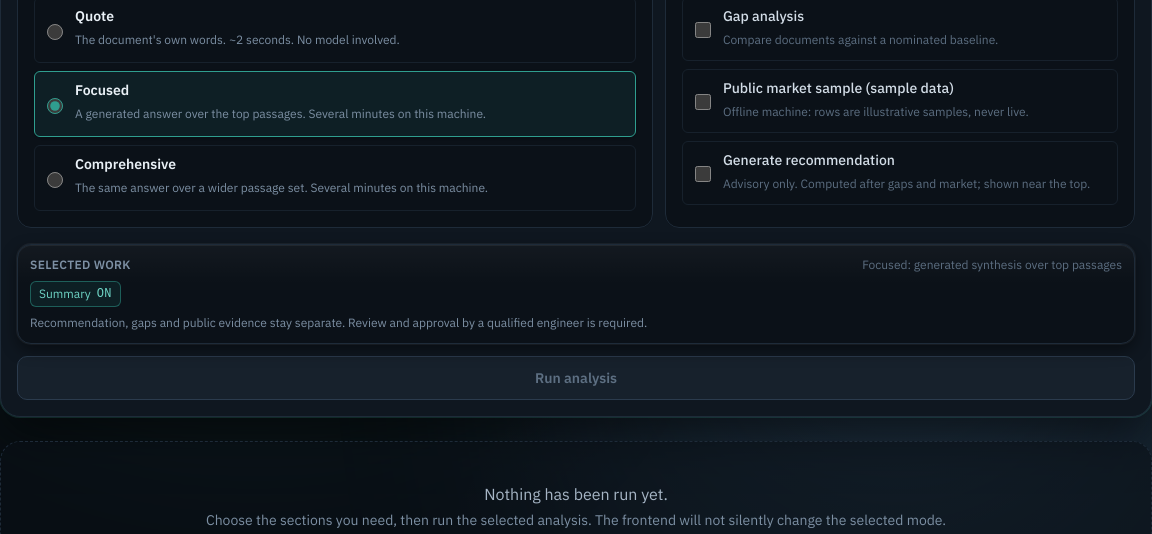
Test: AnalysisModeScreen: rules that must hold on screen › says so when no recommendation was generated
The image size is (1152, 534).
(page scrolled)
Click the checkbox labelled "Generate recommendation".
click(703, 174)  # box [695, 152, 711, 196]
(page scrolled)
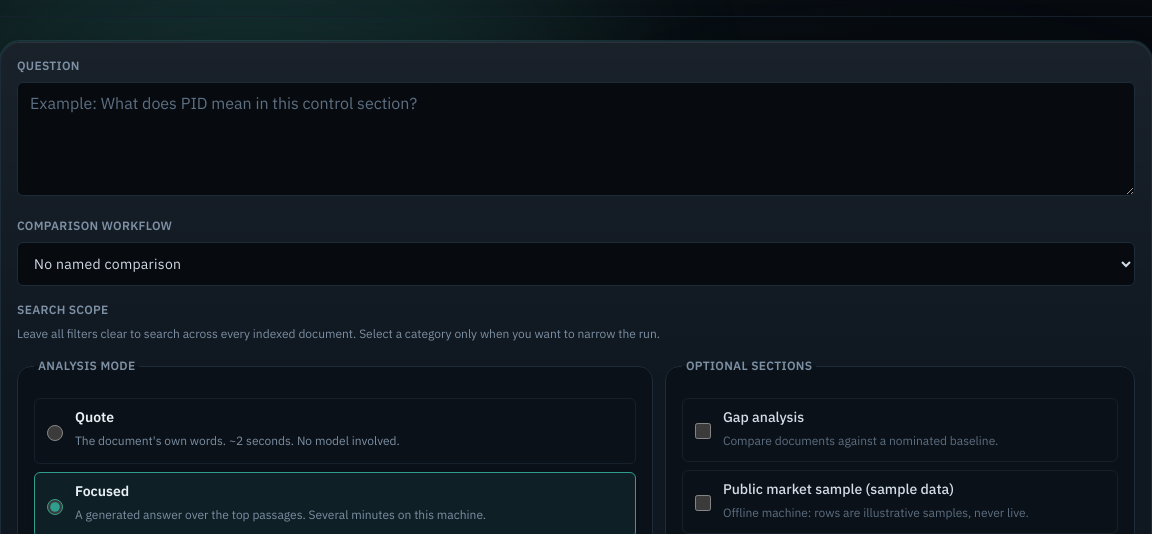
Type "what is the pressure floor" into the text box labelled "Question".
click(576, 139); type("what is the pressure floor")  # box [17, 82, 1135, 196]
(page scrolled)
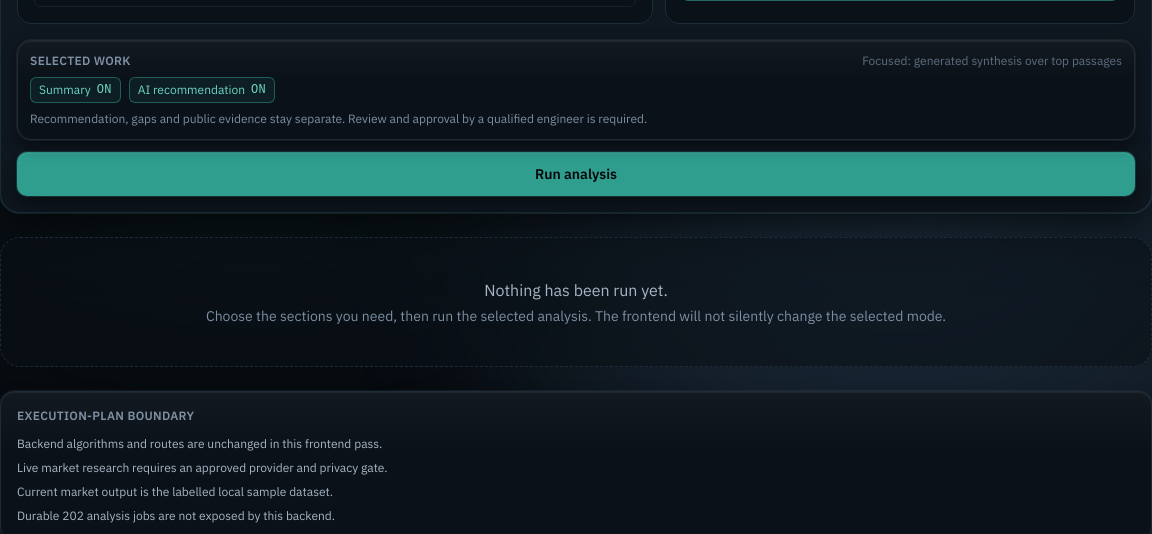
Click the button "Run analysis".
click(576, 174)  # box [17, 152, 1135, 196]
(page scrolled)
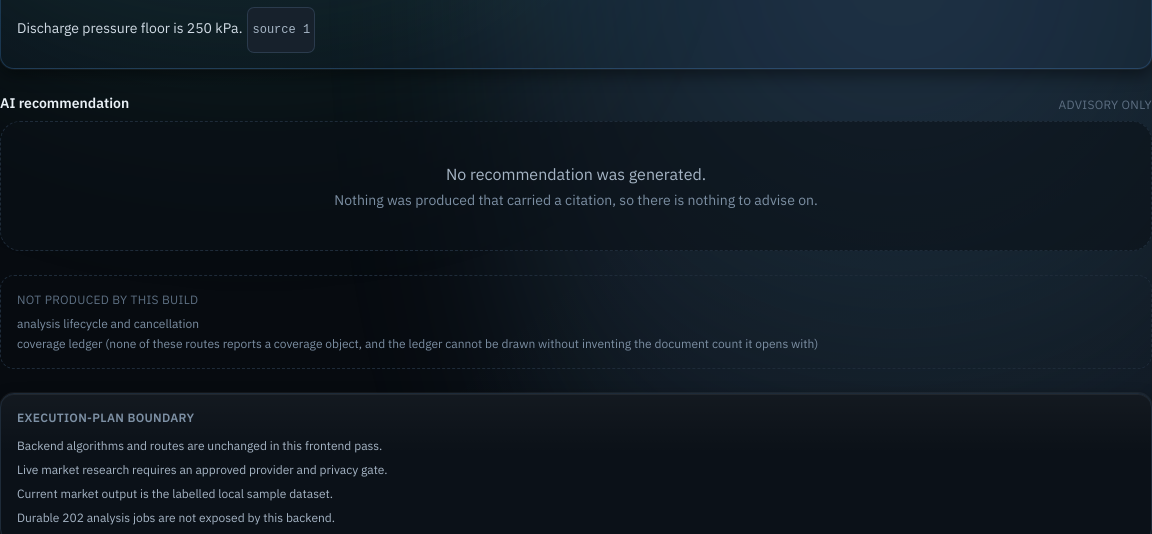
Check: the text "No recommendation was generated." is shown, box [446, 164, 706, 184]
